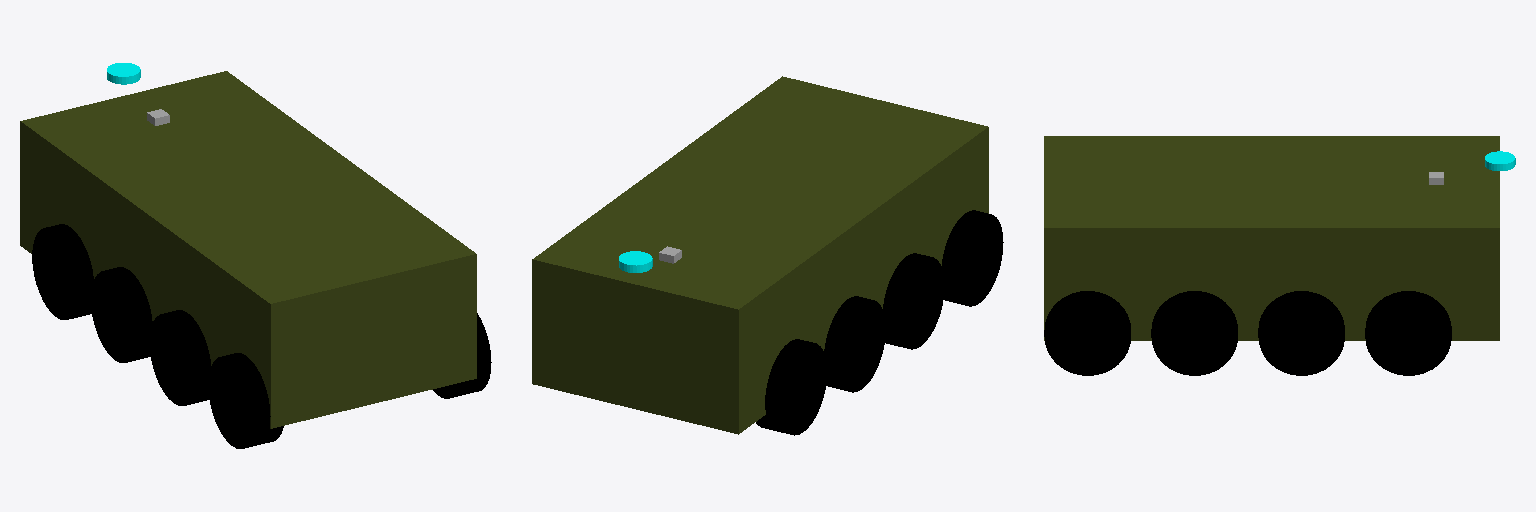
URDF robot description (argo_j8):
<?xml version="1.0" ?>
<!-- =================================================================================== -->
<!-- |    This document was autogenerated by xacro from argo_j8.urdf.xacro             | -->
<!-- |    EDITING THIS FILE BY HAND IS NOT RECOMMENDED                                 | -->
<!-- =================================================================================== -->
<robot name="argo_j8">
  <!-- Specify some standard inertial calculations https://en.wikipedia.org/wiki/List_of_moments_of_inertia -->
  <!-- These make use of xacro's mathematical functionality -->
  <!-- Definicion de materiales constantes -->
  <material name="Military green">
    <color rgba="0.29 0.33 0.13 1.0"/>
  </material>
  <material name="black">
    <color rgba="0.0 0.0 0.0 1.0"/>
  </material>
  <material name="blue">
    <color rgba="0.0 1.0 1.0 1.0"/>
  </material>
  <material name="grey">
    <color rgba="0.7 0.7 0.7 1.0"/>
  </material>
  <!-- Chasis -->
  <link name="base_link">
    <visual>
      <geometry>
        <box size="1.40 2.94 0.81"/>
        <!-- Dimensiones en metros -->
      </geometry>
      <origin rpy="0 0 0" xyz="0 0 0"/>
      <material name="Military green"/>
    </visual>
    <collision>
      <geometry>
        <box size="1.40 2.94 0.81"/>
        <!-- Dimensiones en metros -->
      </geometry>
      <origin rpy="0 0 0" xyz="0 0 0"/>
    </collision>
  </link>
  <inertial>
    <origin rpy="0 0 0" xyz="0 0 0"/>
    <mass value="750"/>
    <inertia ixx="581.2312499999999" ixy="0.0" ixz="0.0" iyy="163.50625" iyz="0.0" izz="662.7249999999999"/>
  </inertial>
  <!-- LiDAR, Cámara y sensor -->
  <link name="LiDAR">
    <visual>
      <geometry>
        <cylinder length="0.05" radius="0.1"/>
        <!-- Dimensiones en metros -->
      </geometry>
      <origin rpy="0 0 0" xyz="0 0 0"/>
      <material name="blue"/>
    </visual>
    <collision>
      <geometry>
        <box size="0.2 0.2 0.05"/>
        <!-- Dimensiones en metros -->
      </geometry>
      <origin rpy="0 0 0" xyz="0 0 0"/>
    </collision>
  </link>
  <link name="camera">
    <visual>
      <geometry>
        <box size="0.1 0.1 0.1"/>
        <!-- Dimensiones en metros -->
      </geometry>
      <origin rpy="0 0 0" xyz="0 0 0"/>
      <material name="grey"/>
    </visual>
    <collision>
      <geometry>
        <box size="0.1 0.1 0.1"/>
        <!-- Dimensiones en metros -->
      </geometry>
      <origin rpy="0 0 0" xyz="0 0 0"/>
    </collision>
  </link>
  <!-- Definicion de las 8 ruedas -->
  <!-- Rueda delantera izquierda -->
  <link name="wheel_front_left">
    <visual>
      <geometry>
        <cylinder length="0.20" radius="0.28"/>
        <!-- Radio y ancho de la rueda -->
      </geometry>
      <origin rpy="0 1.57 0" xyz="0 0 0"/>
      <!-- Radio en radianes -->
      <material name="black"/>
    </visual>
    <collision>
      <geometry>
        <cylinder length="0.20" radius="0.28"/>
        <!-- Radio y ancho de la rueda -->
      </geometry>
      <origin rpy="0 1.57 0" xyz="0 0 0"/>
      <!-- Radio en radianes -->
    </collision>
    <inertial>
      <origin rpy="0 1.57 0" xyz="0 0 0"/>
      <mass value="11"/>
      <inertia ixx="0.2522666666666667" ixy="0.0" ixz="0.0" iyy="0.2522666666666667" iyz="0.0" izz="0.4312000000000001"/>
    </inertial>
  </link>
  <!-- Rueda delantera derecha -->
  <link name="wheel_front_right">
    <visual>
      <geometry>
        <cylinder length="0.20" radius="0.28"/>
        <!-- Radio y ancho de la rueda -->
      </geometry>
      <origin rpy="0 1.57 0" xyz="0 0 0"/>
      <material name="black"/>
    </visual>
    <collision>
      <geometry>
        <cylinder length="0.20" radius="0.28"/>
        <!-- Radio y ancho de la rueda -->
      </geometry>
      <origin rpy="0 1.57 0" xyz="0 0 0"/>
    </collision>
    <inertial>
      <origin rpy="0 1.57 0" xyz="0 0 0"/>
      <mass value="11"/>
      <inertia ixx="0.2522666666666667" ixy="0.0" ixz="0.0" iyy="0.2522666666666667" iyz="0.0" izz="0.4312000000000001"/>
    </inertial>
  </link>
  <!-- Rueda delantera_media izquierda -->
  <link name="wheel_midfront_left">
    <visual>
      <geometry>
        <cylinder length="0.20" radius="0.28"/>
        <!-- Radio y ancho de la rueda -->
      </geometry>
      <origin rpy="0 1.57 0" xyz="0 0 0"/>
      <material name="black"/>
    </visual>
    <collision>
      <geometry>
        <cylinder length="0.20" radius="0.28"/>
        <!-- Radio y ancho de la rueda -->
      </geometry>
      <origin rpy="0 1.57 0" xyz="0 0 0"/>
    </collision>
    <inertial>
      <origin rpy="0 1.57 0" xyz="0 0 0"/>
      <mass value="11"/>
      <inertia ixx="0.2522666666666667" ixy="0.0" ixz="0.0" iyy="0.2522666666666667" iyz="0.0" izz="0.4312000000000001"/>
    </inertial>
  </link>
  <!-- Rueda delantera_media derecha -->
  <link name="wheel_midfront_right">
    <visual>
      <geometry>
        <cylinder length="0.20" radius="0.28"/>
        <!-- Radio y ancho de la rueda -->
      </geometry>
      <origin rpy="0 1.57 0" xyz="0 0 0"/>
      <material name="black"/>
    </visual>
    <collision>
      <geometry>
        <cylinder length="0.20" radius="0.28"/>
        <!-- Radio y ancho de la rueda -->
      </geometry>
      <origin rpy="0 1.57 0" xyz="0 0 0"/>
    </collision>
    <inertial>
      <origin rpy="0 1.57 0" xyz="0 0 0"/>
      <mass value="11"/>
      <inertia ixx="0.2522666666666667" ixy="0.0" ixz="0.0" iyy="0.2522666666666667" iyz="0.0" izz="0.4312000000000001"/>
    </inertial>
  </link>
  <!-- Rueda trasera_media izquierda -->
  <link name="wheel_midback_left">
    <visual>
      <geometry>
        <cylinder length="0.20" radius="0.28"/>
        <!-- Radio y ancho de la rueda -->
      </geometry>
      <origin rpy="0 1.57 0" xyz="0 0 0"/>
      <material name="black"/>
    </visual>
    <collision>
      <geometry>
        <cylinder length="0.20" radius="0.28"/>
        <!-- Radio y ancho de la rueda -->
      </geometry>
      <origin rpy="0 1.57 0" xyz="0 0 0"/>
    </collision>
    <inertial>
      <origin rpy="0 1.57 0" xyz="0 0 0"/>
      <mass value="11"/>
      <inertia ixx="0.2522666666666667" ixy="0.0" ixz="0.0" iyy="0.2522666666666667" iyz="0.0" izz="0.4312000000000001"/>
    </inertial>
  </link>
  <!-- Rueda trasera_media derecha -->
  <link name="wheel_midback_right">
    <visual>
      <geometry>
        <cylinder length="0.20" radius="0.28"/>
        <!-- Radio y ancho de la rueda -->
      </geometry>
      <origin rpy="0 1.57 0" xyz="0 0 0"/>
      <material name="black"/>
    </visual>
    <collision>
      <geometry>
        <cylinder length="0.20" radius="0.28"/>
        <!-- Radio y ancho de la rueda -->
      </geometry>
      <origin rpy="0 1.57 0" xyz="0 0 0"/>
    </collision>
    <inertial>
      <origin rpy="0 1.57 0" xyz="0 0 0"/>
      <mass value="11"/>
      <inertia ixx="0.2522666666666667" ixy="0.0" ixz="0.0" iyy="0.2522666666666667" iyz="0.0" izz="0.4312000000000001"/>
    </inertial>
  </link>
  <!-- Rueda trasera izquierda -->
  <link name="wheel_back_left">
    <visual>
      <geometry>
        <cylinder length="0.20" radius="0.28"/>
        <!-- Radio y ancho de la rueda -->
      </geometry>
      <origin rpy="0 1.57 0" xyz="0 0 0"/>
      <material name="black"/>
    </visual>
    <collision>
      <geometry>
        <cylinder length="0.20" radius="0.28"/>
        <!-- Radio y ancho de la rueda -->
      </geometry>
      <origin rpy="0 1.57 0" xyz="0 0 0"/>
    </collision>
    <inertial>
      <origin rpy="0 1.57 0" xyz="0 0 0"/>
      <mass value="11"/>
      <inertia ixx="0.2522666666666667" ixy="0.0" ixz="0.0" iyy="0.2522666666666667" iyz="0.0" izz="0.4312000000000001"/>
    </inertial>
  </link>
  <!-- Rueda trasera derecha -->
  <link name="wheel_back_right">
    <visual>
      <geometry>
        <cylinder length="0.20" radius="0.28"/>
        <!-- Radio y ancho de la rueda -->
      </geometry>
      <origin rpy="0 1.57 0" xyz="0 0 0"/>
      <material name="black"/>
    </visual>
    <collision>
      <geometry>
        <cylinder length="0.20" radius="0.28"/>
        <!-- Radio y ancho de la rueda -->
      </geometry>
      <origin rpy="0 1.57 0" xyz="0 0 0"/>
    </collision>
    <inertial>
      <origin rpy="0 1.57 0" xyz="0 0 0"/>
      <mass value="11"/>
      <inertia ixx="0.2522666666666667" ixy="0.0" ixz="0.0" iyy="0.2522666666666667" iyz="0.0" izz="0.4312000000000001"/>
    </inertial>
  </link>
  <!-- Link virtual para base del plano.  -->
  <link name="base_footprint"/>

  <!-- Joint de referencia de la base del plano y Argo J8 -->
  <joint name="joint_base_footprint" type="fixed">
    <parent link="base_link"/>
    <child link="base_footprint"/>
    <origin rpy="0 0 0" xyz="0 0 -0.605"/>
    <!-- Posición de la rueda con respecto al chasis -->
  </joint>
  <!-- Definicion de Joints entre chasis y LiDAR, cámara y sensores, y, entre chasis y rueda -->
  <!-- Joint entre chasis y LiDAR -->
  <joint name="joint_LiDAR" type="fixed">
    <parent link="base_link"/>
    <child link="LiDAR"/>
    <origin rpy="0 0 0" xyz="0 1.47 0.55"/>
    <!-- Posición de la rueda con respecto al chasis -->
  </joint>
  <!-- Joint entre chasis y camera -->
  <joint name="joint_camera" type="fixed">
    <parent link="base_link"/>
    <child link="camera"/>
    <origin rpy="0 0 0" xyz="0 1.06 0.405"/>
    <!-- Posición de la rueda con respecto al chasis -->
  </joint>
  <!-- Joint entre chasis y rueda delantera izquierda -->
  <joint name="joint_wheel_front_left" type="continuous">
    <parent link="base_link"/>
    <child link="wheel_front_left"/>
    <origin rpy="0 0 0" xyz="-0.7 0.88 -0.325"/>
    <!-- Posición de la rueda con respecto al chasis -->
    <axis xyz="-1 0 0"/>
    <!-- Eje de rotación -->
  </joint>
  <!-- Joint entre chasis y rueda delantera derecha -->
  <joint name="joint_wheel_front_right" type="continuous">
    <parent link="base_link"/>
    <child link="wheel_front_right"/>
    <origin rpy="0 0 0" xyz="0.7 0.88 -0.325"/>
    <!-- Posición de la rueda con respecto al chasis -->
    <axis xyz="-1 0 0"/>
    <!-- Eje de rotación -->
  </joint>
  <!-- Joint entre chasis y rueda delantera_media izquierda -->
  <joint name="joint_wheel_midfront_left" type="continuous">
    <parent link="base_link"/>
    <child link="wheel_midfront_left"/>
    <origin rpy="0 0 0" xyz="-0.7 0.19 -0.325"/>
    <!-- Posición de la rueda con respecto al chasis -->
    <axis xyz="-1 0 0"/>
    <!-- Eje de rotación -->
  </joint>
  <!-- Joint entre chasis y rueda delantera_media derecha -->
  <joint name="joint_wheel_midfront_right" type="continuous">
    <parent link="base_link"/>
    <child link="wheel_midfront_right"/>
    <origin rpy="0 0 0" xyz="0.7 0.19 -0.325"/>
    <!-- Posición de la rueda con respecto al chasis -->
    <axis xyz="-1 0 0"/>
    <!-- Eje de rotación -->
  </joint>
  <!-- Joint entre chasis y rueda trasera_media izquierda -->
  <joint name="joint_wheel_midback_left" type="continuous">
    <parent link="base_link"/>
    <child link="wheel_midback_left"/>
    <origin rpy="0 0 0" xyz="-0.7 -0.5 -0.325"/>
    <!-- Posición de la rueda con respecto al chasis -->
    <axis xyz="-1 0 0"/>
    <!-- Eje de rotación -->
  </joint>
  <!-- Joint entre chasis y rueda trasera_media derecha -->
  <joint name="joint_wheel_midback_right" type="continuous">
    <parent link="base_link"/>
    <child link="wheel_midback_right"/>
    <origin rpy="0 0 0" xyz="0.7 -0.5 -0.325"/>
    <!-- Posición de la rueda con respecto al chasis -->
    <axis xyz="-1 0 0"/>
    <!-- Eje de rotación -->
  </joint>
  <!-- Joint entre chasis y rueda trasera izquierda -->
  <joint name="joint_wheel_back_left" type="continuous">
    <parent link="base_link"/>
    <child link="wheel_back_left"/>
    <origin rpy="0 0 0" xyz="-0.7 -1.19 -0.325"/>
    <!-- Posición de la rueda con respecto al chasis -->
    <axis xyz="-1 0 0"/>
    <!-- Eje de rotación -->
  </joint>
  <!-- Joint entre chasis y rueda trasera derecha -->
  <joint name="joint_wheel_back_right" type="continuous">
    <parent link="base_link"/>
    <child link="wheel_back_right"/>
    <origin rpy="0 0 0" xyz="0.7 -1.19 -0.325"/>
    <!-- Posición de la rueda con respecto al chasis -->
    <axis xyz="-1 0 0"/>
    <!-- Eje de rotación -->
  </joint>
</robot>

--- Facts derived from the render (not from the file) ---
The picture shows the robot from 3 angles, left to right: view 1: azimuth 30°, elevation 25°; view 2: azimuth 150°, elevation 25°; view 3: azimuth 270°, elevation 25°; orthographic projection.
Model argo_j8 with 12 links and 11 joints (8 continuous, 3 fixed), rooted at base_link, posed all joints at 0.
Visible links, largest first — view 1: base_link, wheel_back_left, wheel_midfront_left, wheel_front_left, wheel_midback_left, wheel_back_right, LiDAR; view 2: base_link, wheel_front_left, wheel_midfront_left, wheel_midback_left, wheel_back_left, LiDAR; view 3: base_link, wheel_midback_right, wheel_midfront_right, wheel_back_right, wheel_front_right, LiDAR.
Link boxes in pixels (<box>): base_link: <box>20,71,476,428</box>; wheel_back_left: <box>208,353,283,448</box>; wheel_midfront_left: <box>91,267,152,362</box>; wheel_front_left: <box>32,224,93,319</box>; wheel_midback_left: <box>149,310,210,405</box>; wheel_back_right: <box>433,313,491,398</box>; LiDAR: <box>107,63,140,84</box>; base_link: <box>532,76,988,434</box>; wheel_front_left: <box>756,339,826,435</box>; wheel_midfront_left: <box>824,296,885,392</box>; wheel_midback_left: <box>883,253,944,349</box>; wheel_back_left: <box>942,210,1003,306</box>; LiDAR: <box>619,251,652,272</box>; base_link: <box>1044,136,1499,340</box>; wheel_midback_right: <box>1151,291,1237,375</box>; wheel_midfront_right: <box>1258,291,1344,375</box>; wheel_back_right: <box>1044,291,1130,375</box>; wheel_front_right: <box>1365,291,1451,375</box>; LiDAR: <box>1485,151,1515,170</box>.
Bounding box of the posed robot: 1.6 × 3.04 × 1.18 m (x, y, z).
Geometry: primitives only (box / cylinder / sphere), no mesh files.